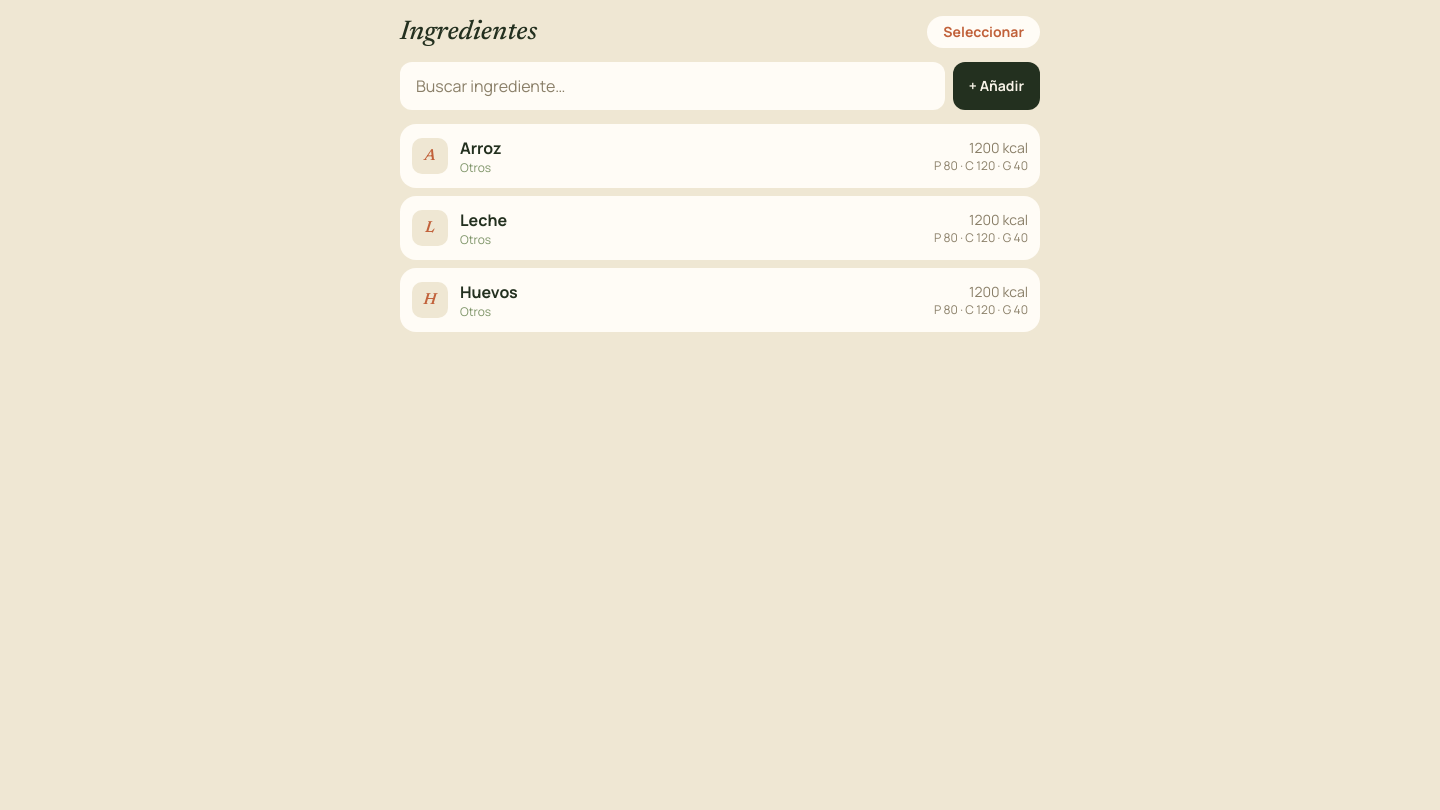
Test: IngredientsPage › quita el borrado de las tarjetas y coloca + Añadir junto al buscador
The width and height of the screenshot is (1440, 810).
Expected: the button "+ Añadir" is shown, [953,62,1040,110]
Expected: the button "Eliminar" is not shown
Click the text "Arroz": coordinates (481, 148) [460,137,502,159]
(page scrolled)
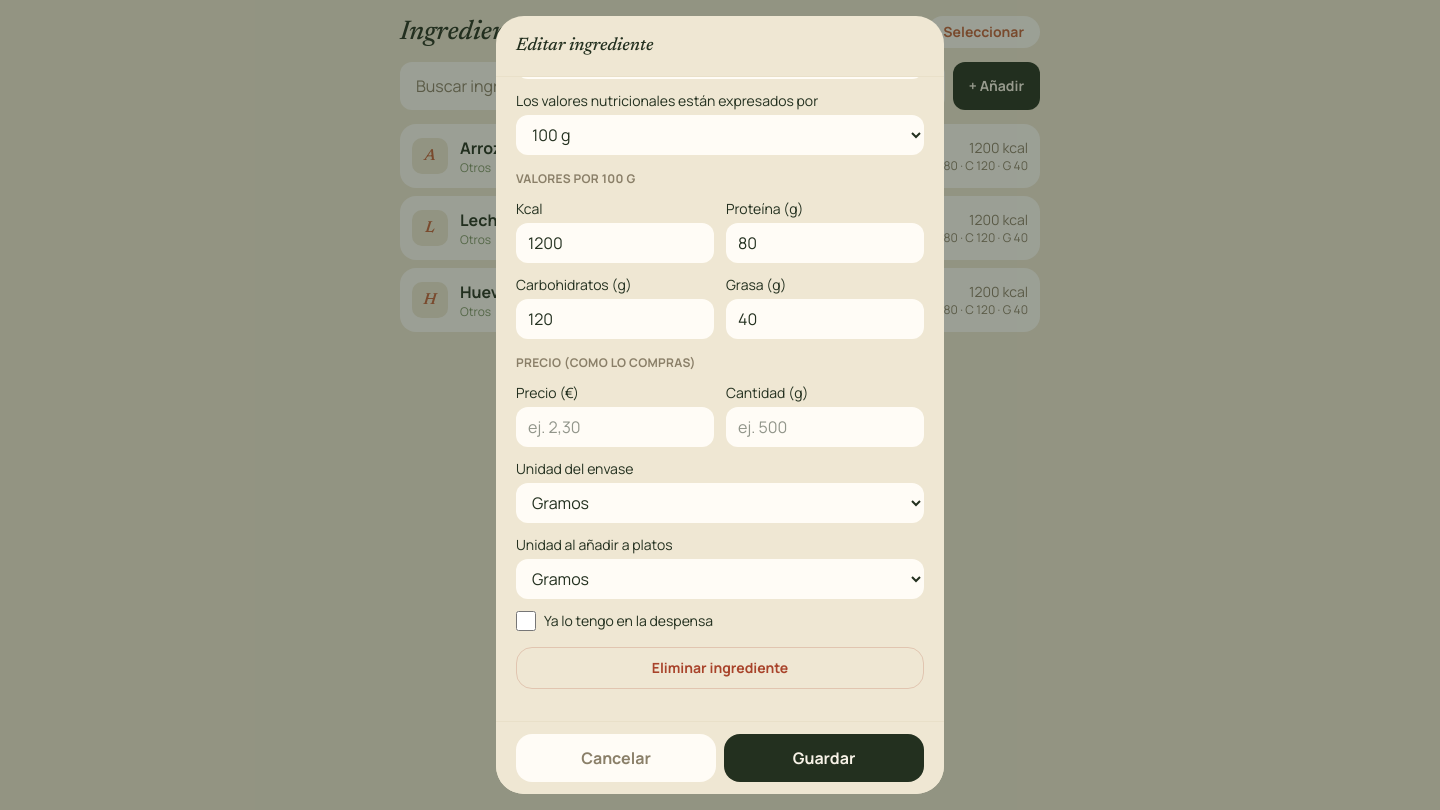
Expected: the button "Eliminar ingrediente" is shown, [516,647,924,689]
